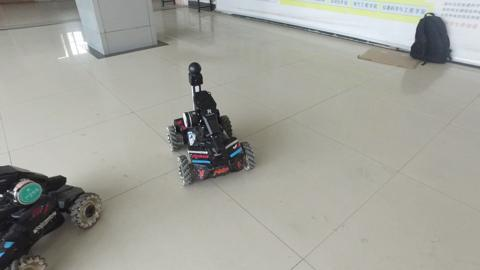bag: (404, 11, 453, 69)
chariot: (159, 56, 258, 195)
